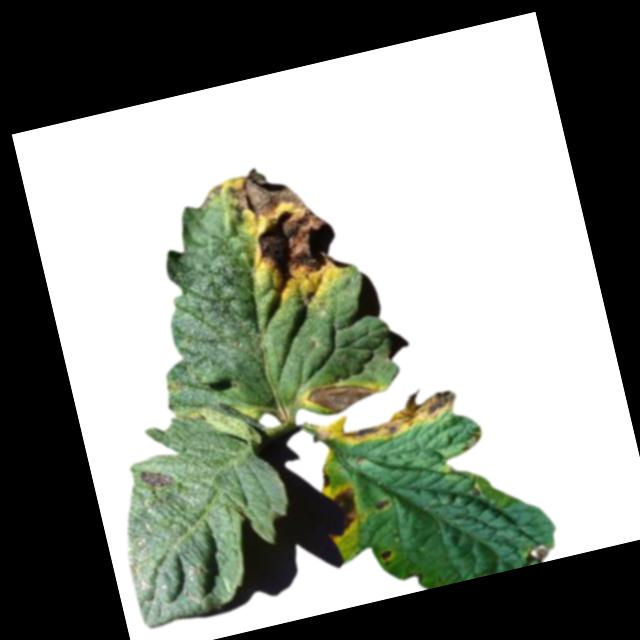Early_blight: (226, 154, 346, 296), (333, 381, 462, 452), (301, 374, 377, 416), (333, 485, 364, 523), (138, 466, 176, 493), (370, 498, 393, 514), (377, 550, 396, 565)
